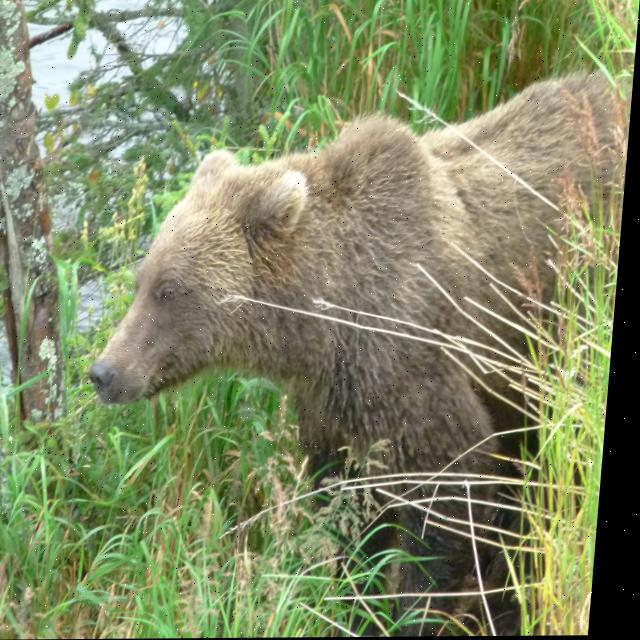bear face: (85, 70, 635, 526)
